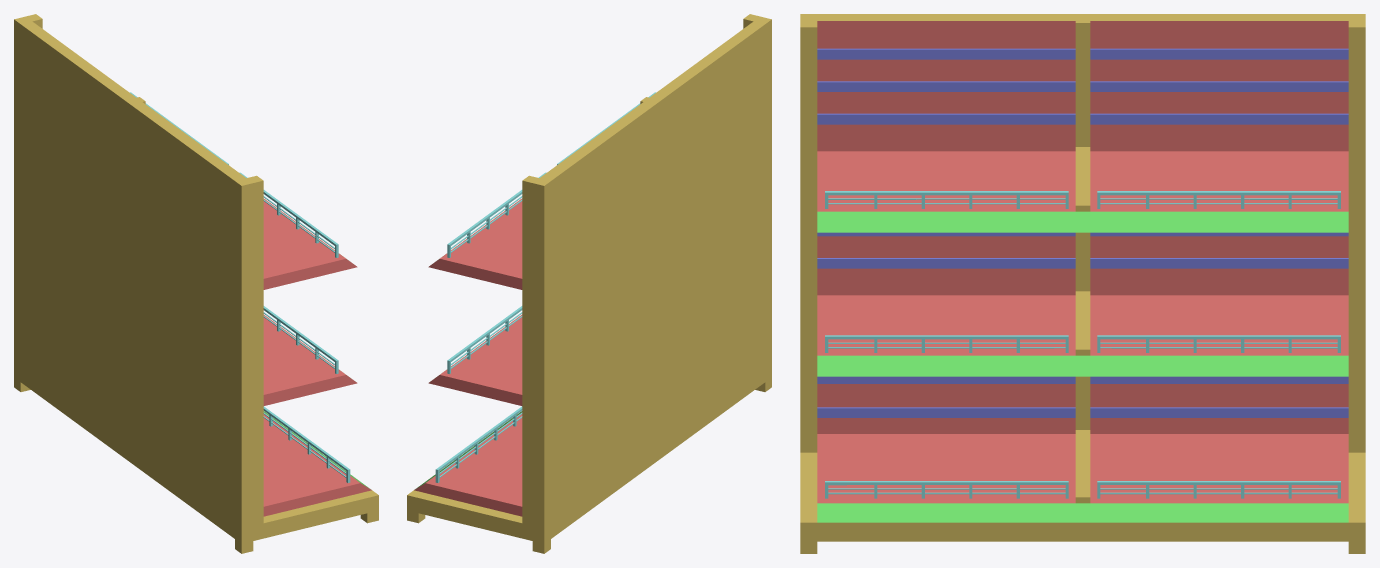
The model's file is DisplayRack.fbx.
3 views of the same model, side by side, from view 1: azimuth 30°, elevation 25°; view 2: azimuth 150°, elevation 25°; view 3: azimuth 270°, elevation 25° (orthographic). The views are drawn at different scales.
Visible parts, largest first — view 1: DisplayRack_Export; view 2: DisplayRack_Export; view 3: DisplayRack_Export.
Boxes of the visible parts, bbox=[...] form: DisplayRack_Export: bbox=[14, 14, 378, 553]; DisplayRack_Export: bbox=[407, 14, 771, 553]; DisplayRack_Export: bbox=[800, 14, 1365, 553].
Bounding box in the file's own units: 68.42 × 175 × 196.
